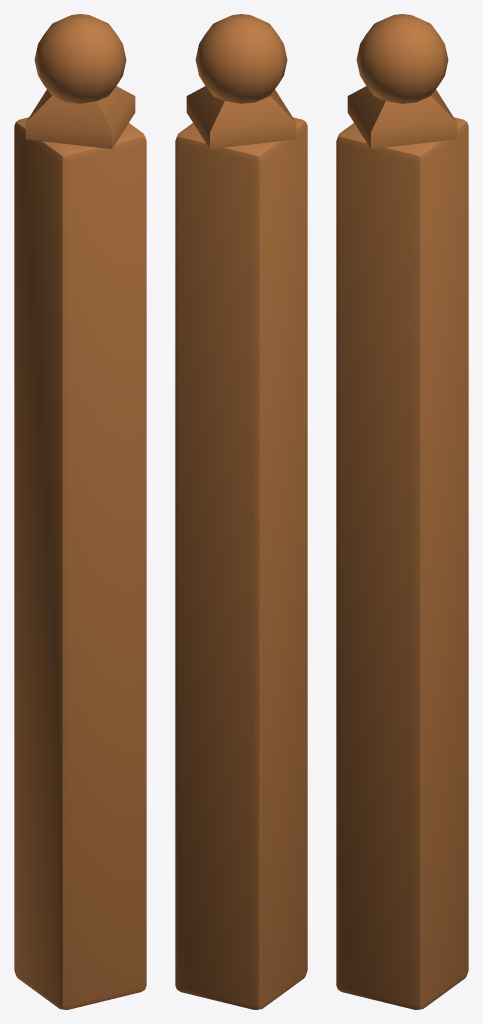
Rendered from cerca_ripada_canto.glb.
3 views of the same model, side by side, from view 1: azimuth 30°, elevation 25°; view 2: azimuth 150°, elevation 25°; view 3: azimuth 330°, elevation 25° (orthographic).
Visible parts, largest first — view 1: cerca_ripada_canto; view 2: cerca_ripada_canto; view 3: cerca_ripada_canto.
Boxes of the visible parts, x1=… form: cerca_ripada_canto: x1=14, y1=14, x2=146, y2=1009; cerca_ripada_canto: x1=175, y1=14, x2=307, y2=1009; cerca_ripada_canto: x1=336, y1=14, x2=468, y2=1009.
Size of the model in its own units: 0.1736 by 1.46 by 0.1736.
1 material, 1 textured.
